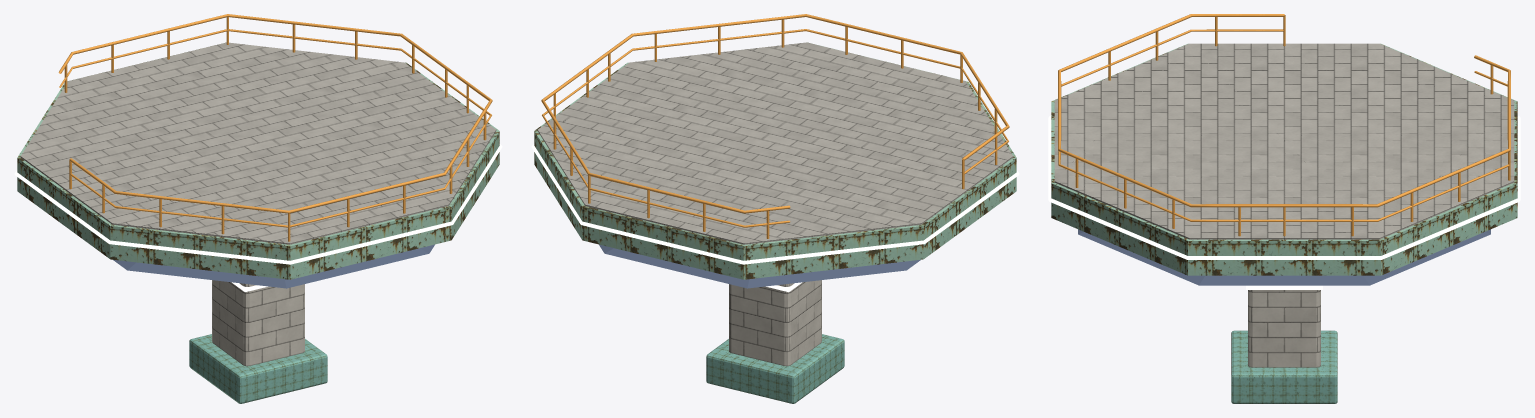
File: HubC.glb
3 views of the same model, side by side, from view 1: azimuth 30°, elevation 25°; view 2: azimuth 150°, elevation 25°; view 3: azimuth 270°, elevation 25° (orthographic). The views are drawn at different scales.
Visible parts, largest first — view 1: HubC_Top, HubC_Body, HubC_Under, HubC_ColBase, HubC_Glow; view 2: HubC_Top, HubC_Body, HubC_Under, HubC_ColBase, HubC_Glow; view 3: HubC_Top, HubC_Body, HubC_Under, HubC_ColBase, HubC_Glow.
Boxes of the visible parts, left/top/right/bottom form: HubC_Top: left=20, top=42, right=496, bottom=366; HubC_Body: left=17, top=42, right=499, bottom=279; HubC_Under: left=58, top=14, right=492, bottom=288; HubC_ColBase: left=189, top=334, right=327, bottom=403; HubC_Glow: left=14, top=144, right=502, bottom=292; HubC_Top: left=537, top=42, right=1013, bottom=366; HubC_Body: left=534, top=42, right=1016, bottom=279; HubC_Under: left=541, top=14, right=1009, bottom=288; HubC_ColBase: left=706, top=334, right=844, bottom=403; HubC_Glow: left=531, top=144, right=1019, bottom=292; HubC_Top: left=1054, top=43, right=1514, bottom=367; HubC_Body: left=1051, top=43, right=1517, bottom=275; HubC_Under: left=1058, top=14, right=1510, bottom=285; HubC_ColBase: left=1231, top=330, right=1337, bottom=403; HubC_Glow: left=1048, top=115, right=1520, bottom=289.
Size of the model in its own units: 14.18 by 9.05 by 14.18.
Materials: 5 (3 with a texture image).
